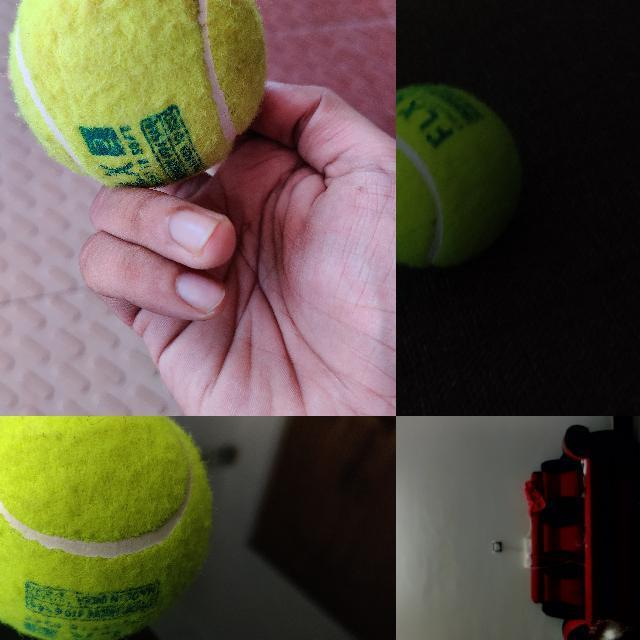tennis-ball: (7, 0, 269, 190), (0, 416, 213, 639), (396, 83, 524, 268)
